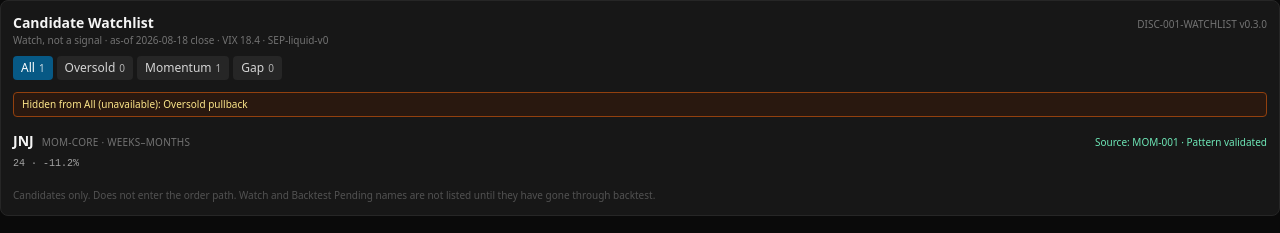
it: CandidateWatchlistWidget › shows fail-closed copy when a family is unavailable
The width and height of the screenshot is (1280, 233).
Click the button "Oversold0". click: (95, 68)
box: [57,56,133,80]
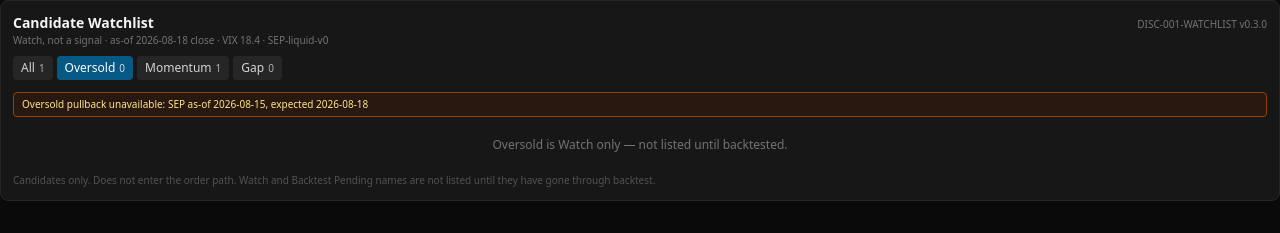
expect the text "Oversold pullback unavailable" is shown: met, box [22,97,368,111]
